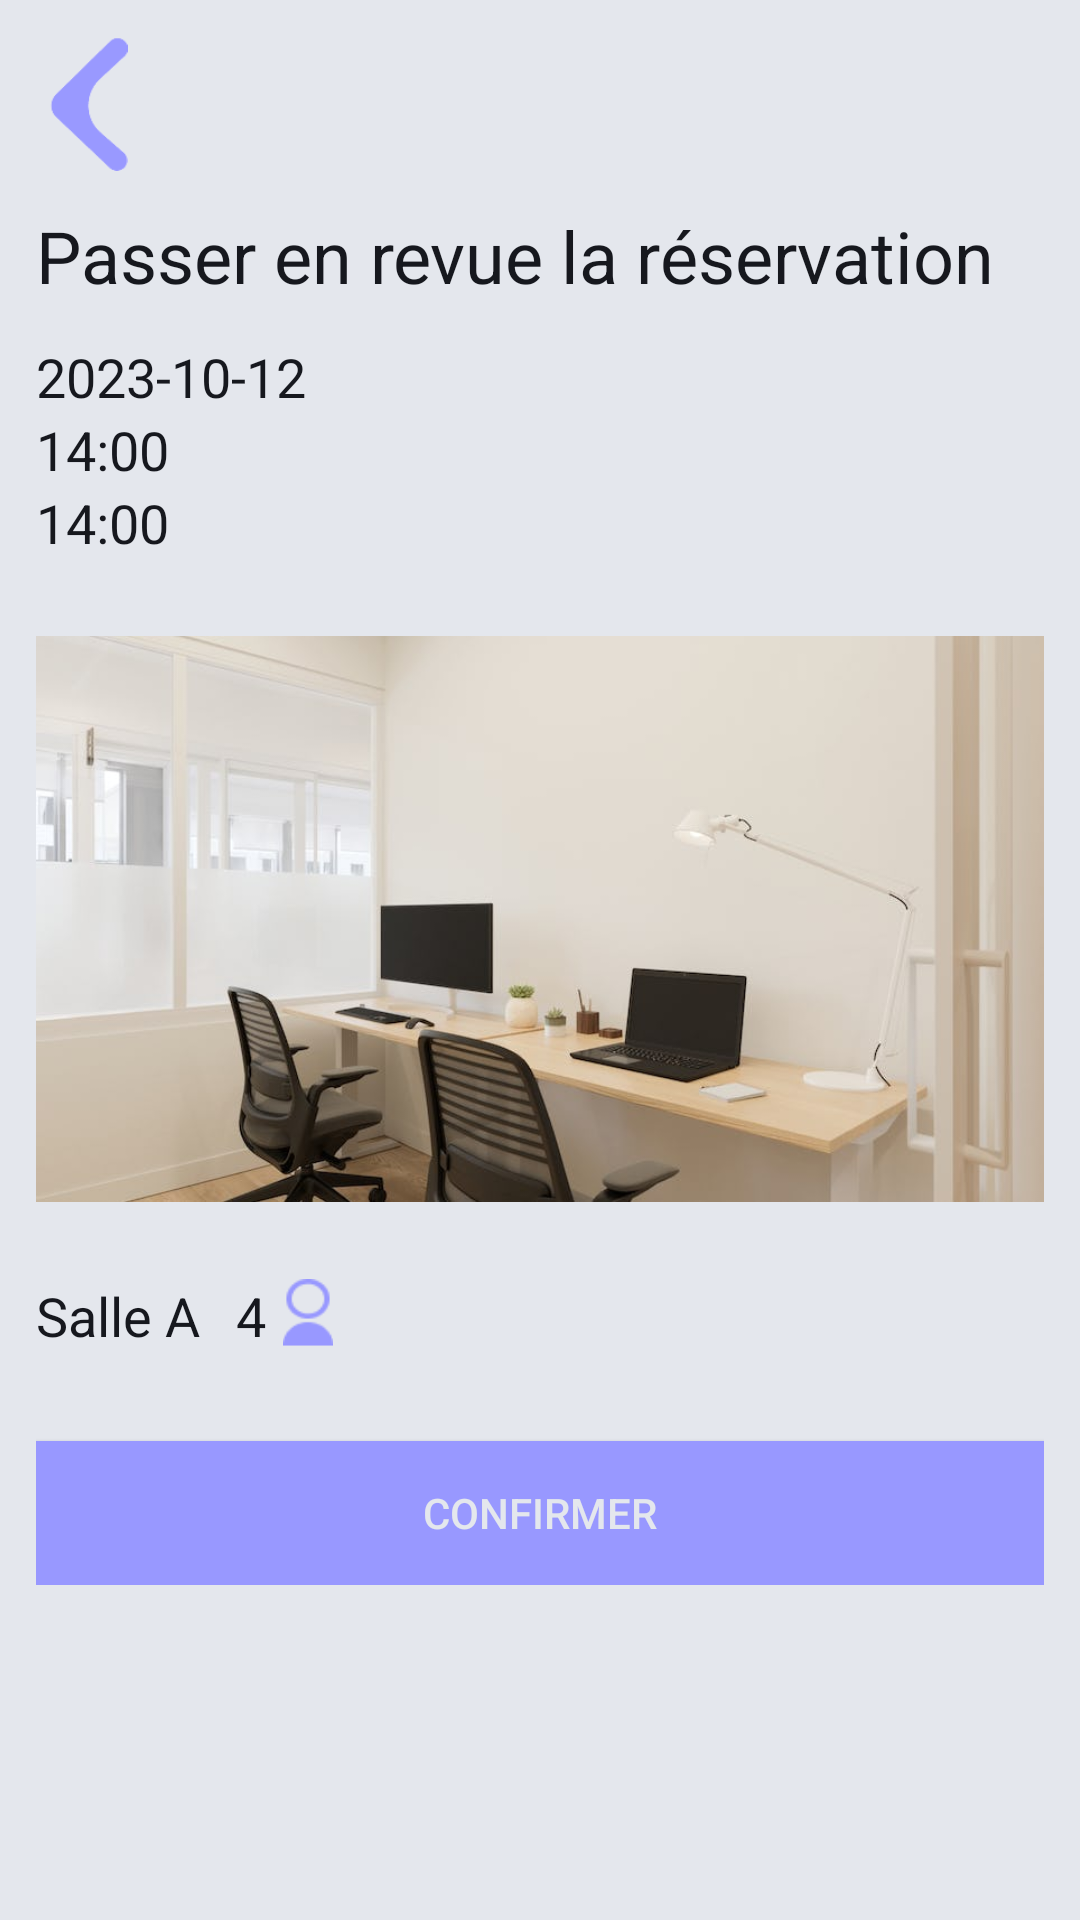

Named icons in this screenshot (1080 × 1920) and their centers, (x,y):
retour: (89,104)
